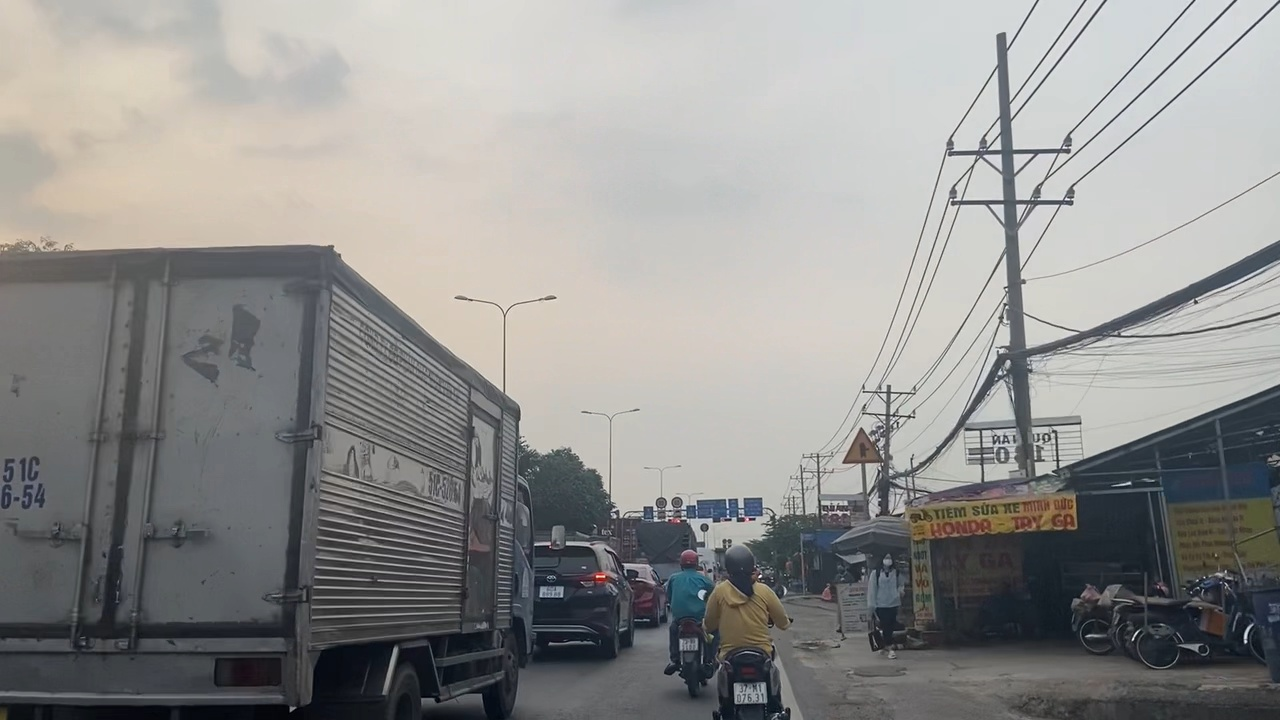giao_khong_uu_tien_phai: (837, 423, 887, 467)
